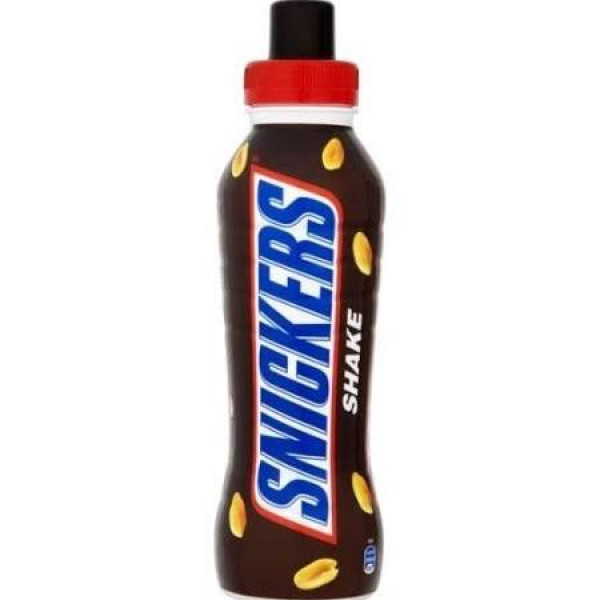snickers: (252, 176, 335, 525), (256, 178, 335, 525)
